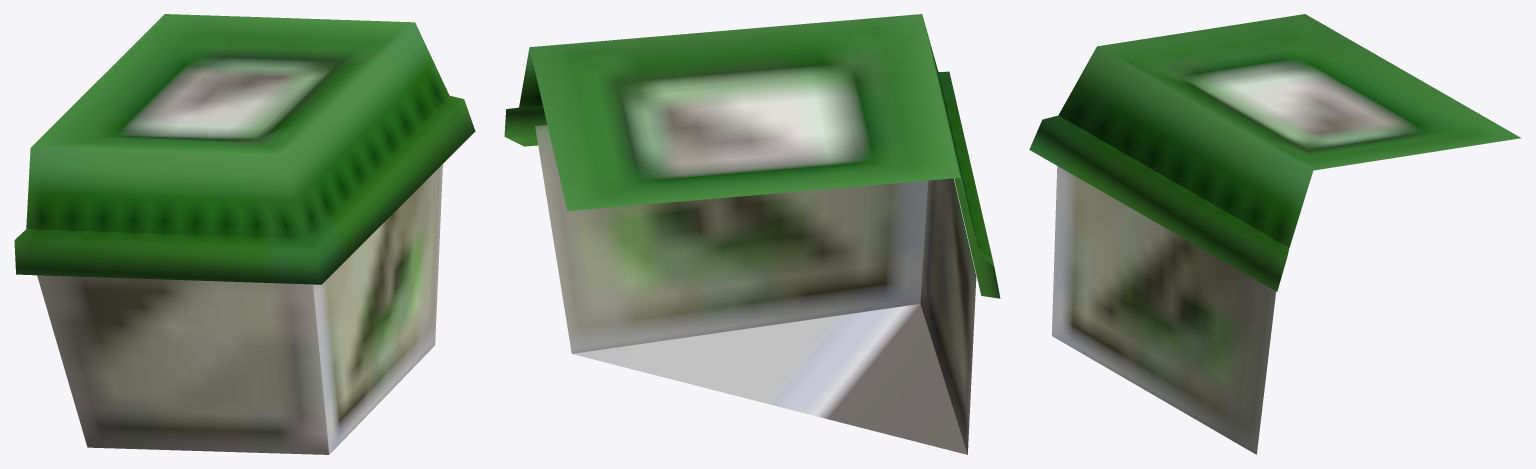
The model's file is fg_cage_out.dae.
3 renders of one model, left to right at view 1: azimuth 30°, elevation 25°; view 2: azimuth 150°, elevation 25°; view 3: azimuth 270°, elevation 25°, orthographic. The views are drawn at different scales.
Visible parts, largest first — view 1: fg_cage_out; view 2: fg_cage_out; view 3: fg_cage_out.
Boxes of the visible parts, x1=… form: fg_cage_out: x1=14, y1=14, x2=475, y2=454; fg_cage_out: x1=504, y1=14, x2=1000, y2=454; fg_cage_out: x1=1029, y1=14, x2=1521, y2=454.
Bounding box in the file's own units: 16.2 × 10.8 × 15.69.
1 material, 1 textured.
